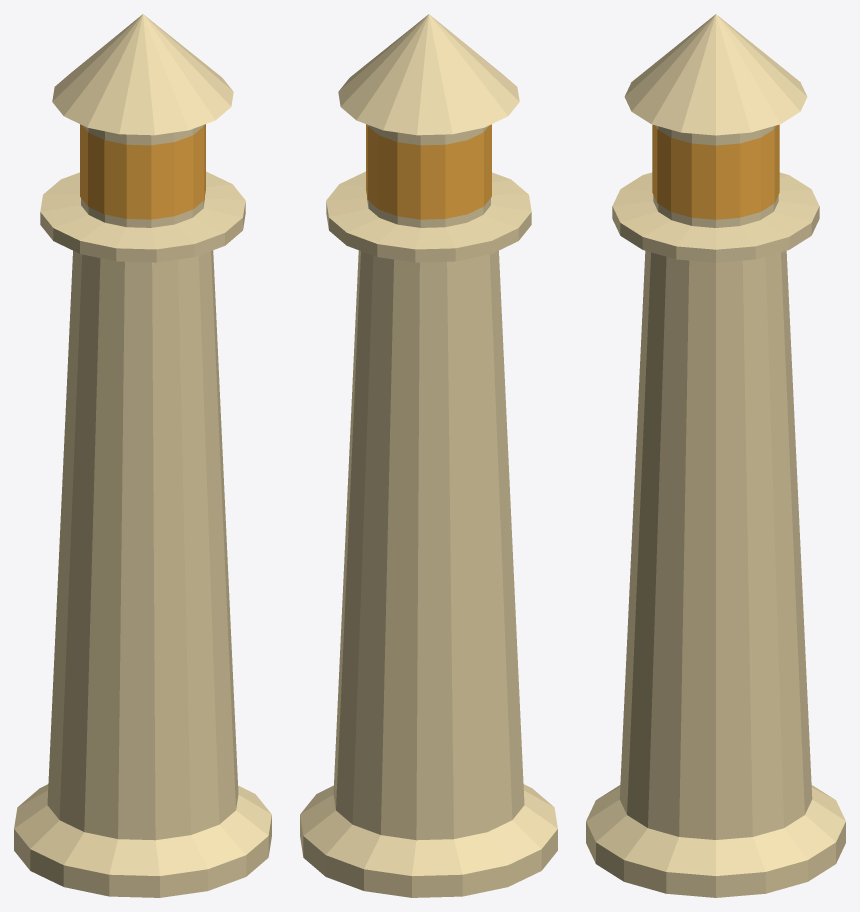
File: lighthouse.obj
3 renders of one model, left to right at view 1: azimuth 30°, elevation 25°; view 2: azimuth 150°, elevation 25°; view 3: azimuth 270°, elevation 25°, orthographic.
Size of the model in its own units: 5.4 by 19 by 5.4.
